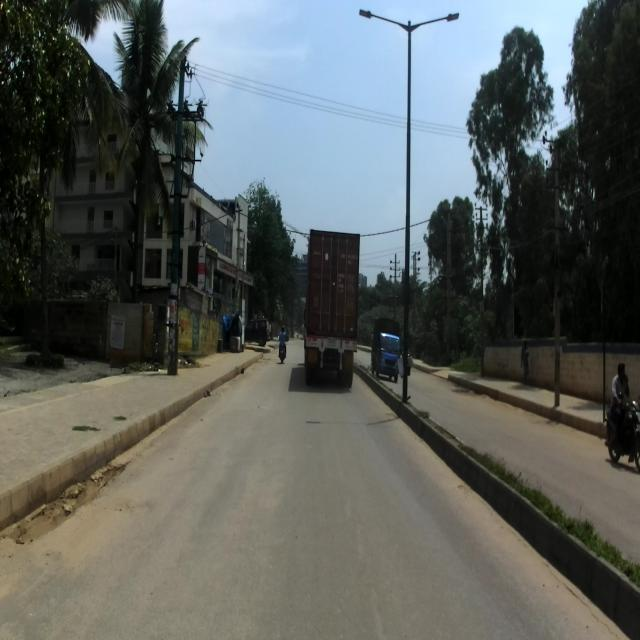car: (243, 313, 270, 347)
motorcycle: (604, 390, 640, 472)
truck: (303, 228, 360, 386), (371, 317, 400, 382)
